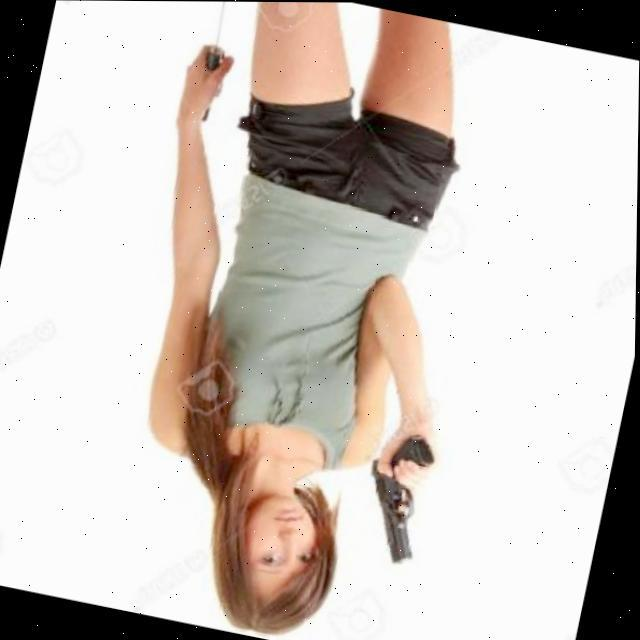gun: (348, 430, 454, 574)
